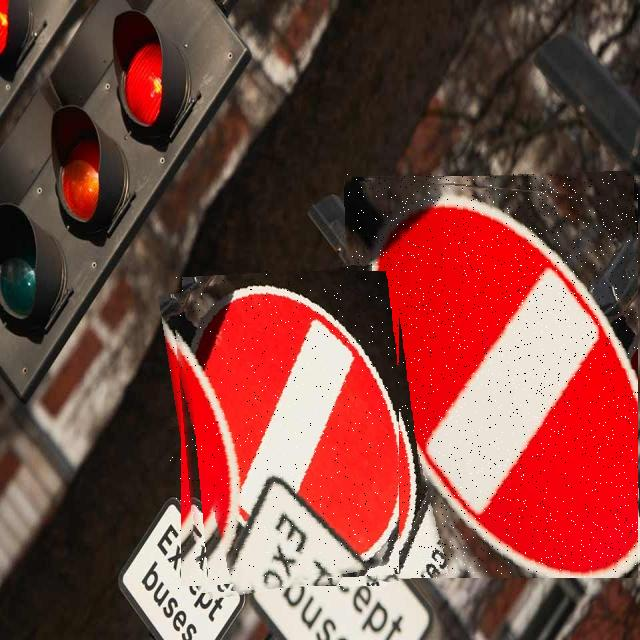no entry: (347, 174, 638, 578), (170, 271, 399, 593)
